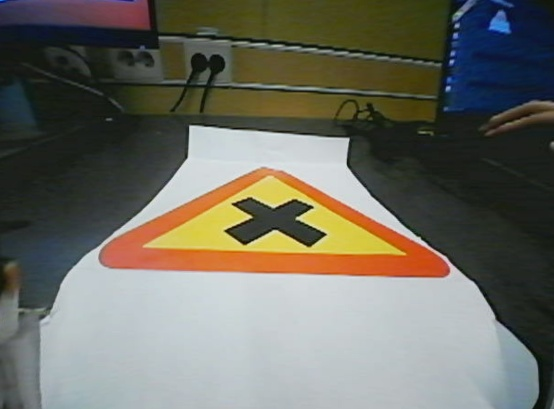junction: (97, 165, 469, 290)
